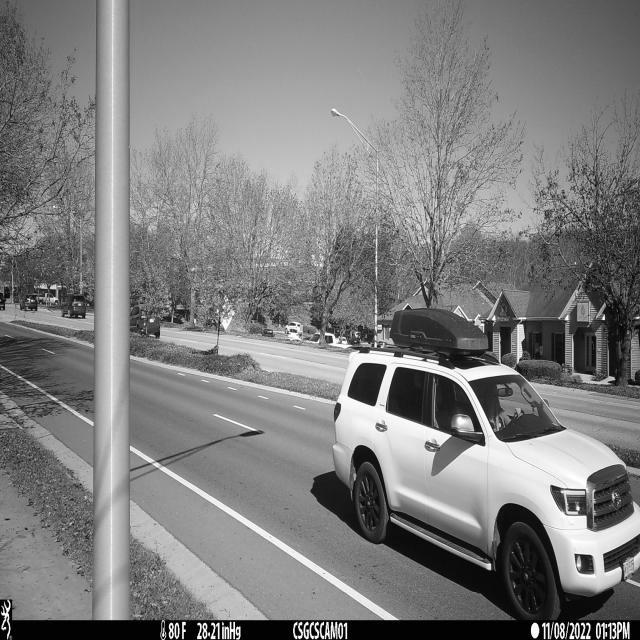SUV: (331, 309, 640, 622)
